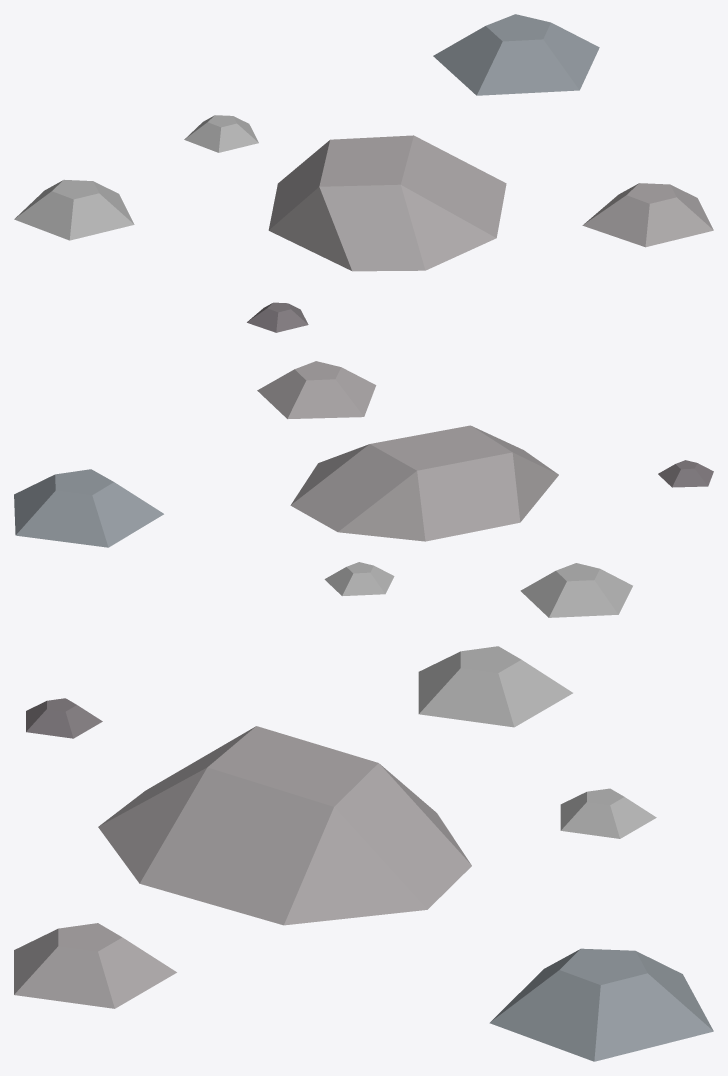
File: Rocks_Round_s_02.fbx
3 renders of one model, top to bottom at view 1: azimuth 30°, elevation 25°; view 2: azimuth 150°, elevation 25°; view 3: azimuth 270°, elevation 25°, orthographic. The views are drawn at different scales.
Parts seen in each view (by area): view 1: Rocks_Round_s_02; view 2: Rocks_Round_s_02; view 3: Rocks_Round_s_02.
Boxes of the visible parts, box(x1,y1,x2,y2) form: Rocks_Round_s_02: box(14, 14, 713, 332); Rocks_Round_s_02: box(14, 361, 713, 617); Rocks_Round_s_02: box(14, 646, 713, 1061).
Size of the model in its own units: 56.08 by 4.56 by 41.15.
